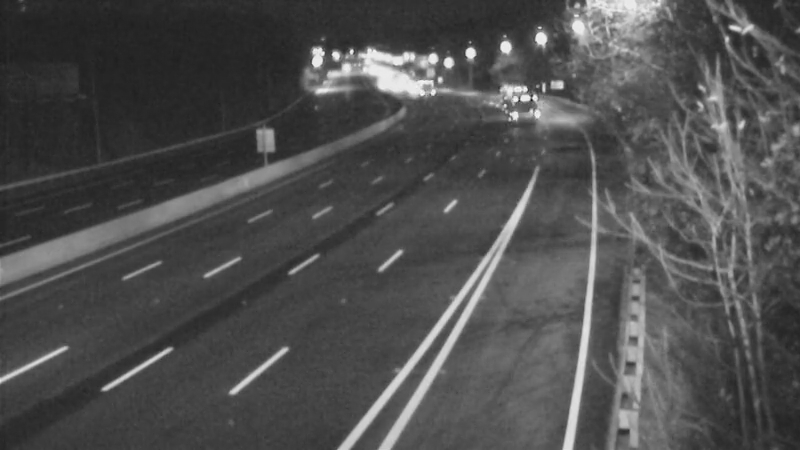vehicle: (480, 66, 530, 116), (398, 63, 448, 113), (492, 84, 542, 134)
